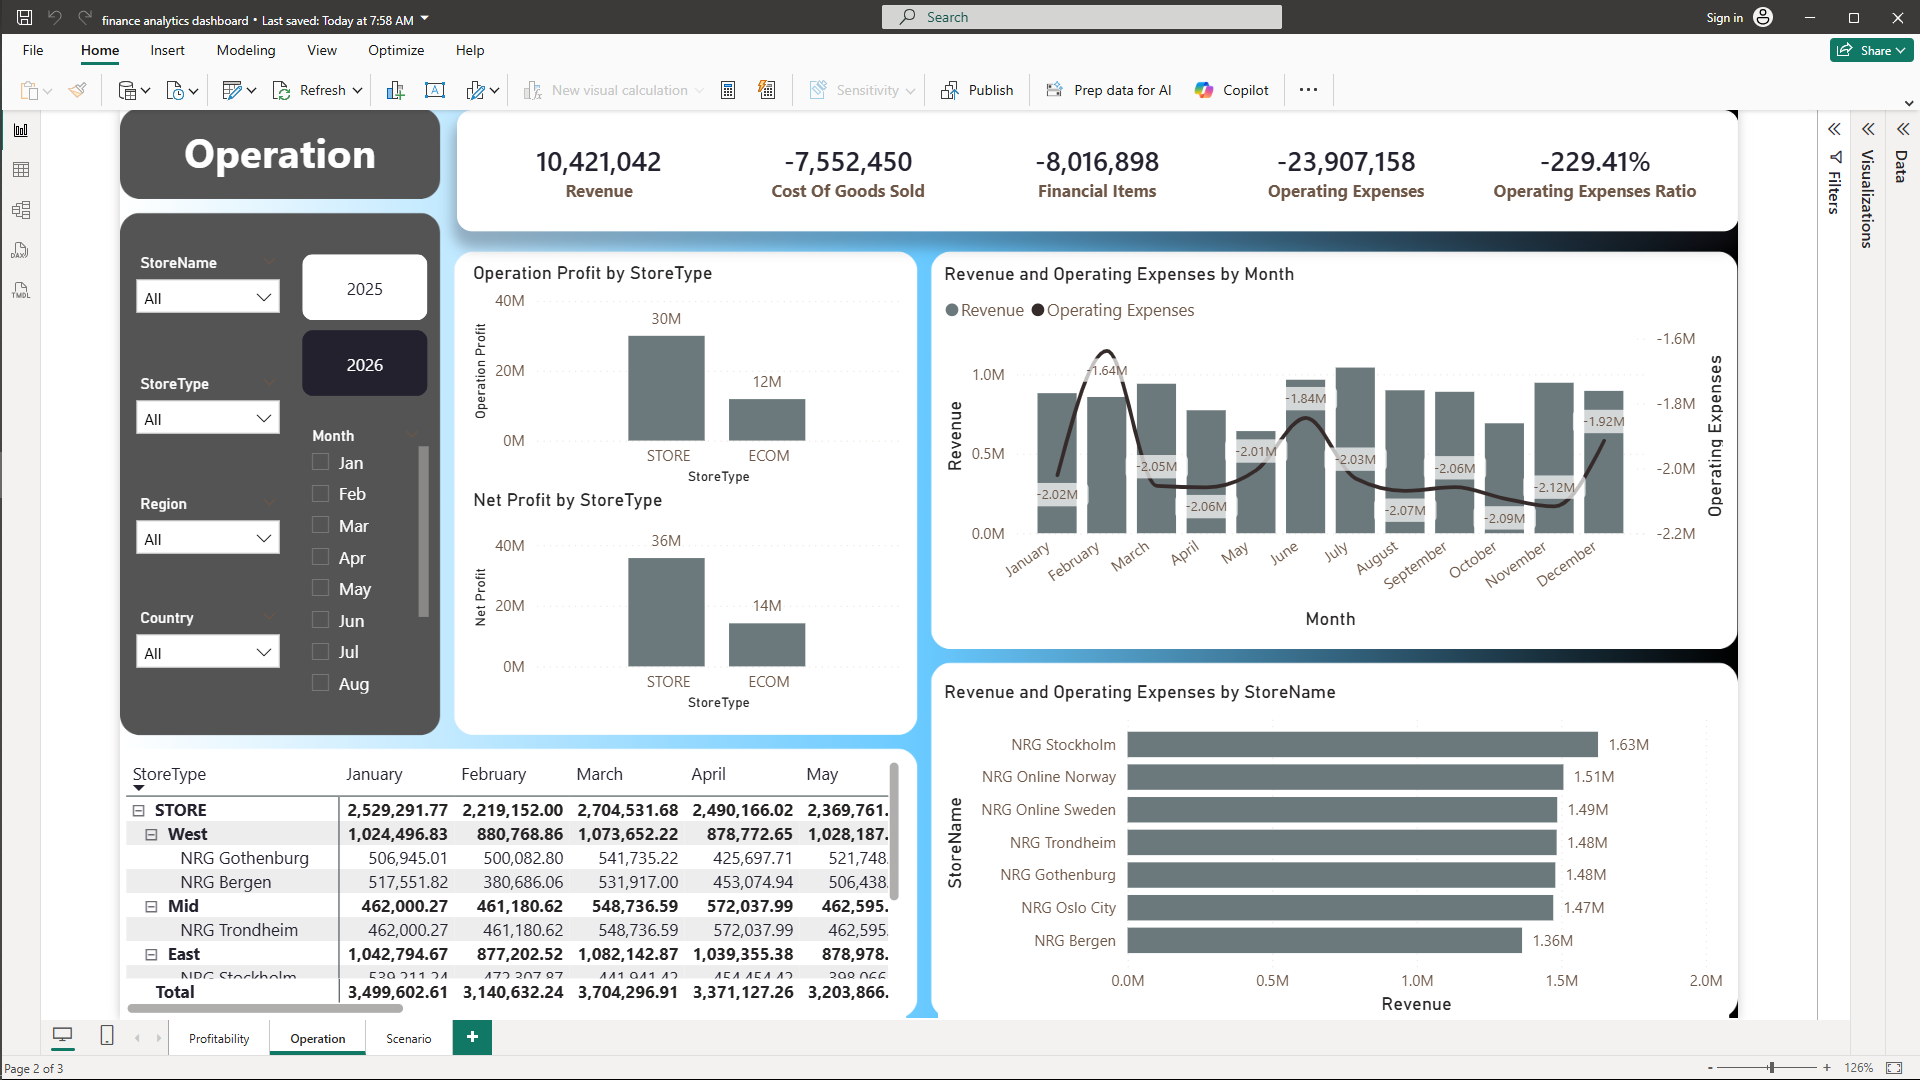

The page's visual inventory and layout, read from the dashboard file:
{"tool":"powerbi","page":{"name":"Operation","canvas":[1280,720],"ordinal":1},"visuals":[{"type":"cardVisual","fields":{"Data":["_Measures.Revenue","_Measures.Cost Of Goods Sold (COGS)","_Measures.Financial Items","_Measures.Operating Expenses","_Measures.Operating Expenses Ration"]},"box":[266.4,0,1013.6,96.3],"z":0},{"type":"lineStackedColumnComboChart","fields":{"Y":["_Measures.Revenue"],"Category":["dim_date.Date.Variation.Date Hierarchy.Year","dim_date.Date.Variation.Date Hierarchy.Quarter","dim_date.Date.Variation.Date Hierarchy.Month","dim_date.Date.Variation.Date Hierarchy.Day"],"Y2":["_Measures.Operating Expenses"]},"box":[647.2,121.5,626.5,294.3],"z":1000},{"type":"barChart","fields":{"Category":["dim_stores.StoreName"],"Y":["_Measures.Revenue"]},"box":[647.2,452.8,626.5,267.3],"z":2000},{"type":"clusteredColumnChart","fields":{"Category":["dim_stores.StoreType"],"Y":["_Measures.Operation Profit"]},"box":[274.4,121.2,347.7,179.5],"z":3000},{"type":"pivotTable","fields":{"Rows":["dim_stores.StoreType","dim_stores.Region","dim_stores.StoreName"],"Values":["_Measures.Operation Profit"],"Columns":["dim_date.Date.Variation.Date Hierarchy.Year","dim_date.Date.Variation.Date Hierarchy.Quarter","dim_date.Date.Variation.Date Hierarchy.Month","dim_date.Date.Variation.Date Hierarchy.Day"]},"box":[0,510.4,622,209.7],"z":4000},{"type":"slicer","fields":{"Values":["dim_stores.Country"]},"box":[3.5,389.9,132.8,82.8],"z":5000},{"type":"slicer","fields":{"Values":["dim_stores.Region"]},"box":[3.5,300.2,132.8,81.1],"z":6000},{"type":"slicer","fields":{"Values":["dim_stores.StoreType"]},"box":[3.5,205.3,132.8,81.1],"z":7000},{"type":"slicer","fields":{"Values":["dim_stores.StoreName"]},"box":[3.5,109.5,132.8,81.1],"z":8000},{"type":"slicer","fields":{"Values":["dim_date.Month (Short)"]},"box":[139,246.1,109.7,226.9],"z":9000},{"type":"advancedSlicerVisual","fields":{"Values":["dim_date.Date.Variation.Date Hierarchy.Year"]},"box":[138.9,109.5,109.5,123.3],"z":10000},{"type":"textbox","box":[14.2,5.9,225.2,58.6],"z":11000},{"type":"clusteredColumnChart","fields":{"Category":["dim_stores.StoreType"],"Y":["_Measures.Net Profit"]},"box":[274.4,300.7,347.7,178.6],"z":12000}]}

Visuals, with their boxes on the page's 1280x720 design canvas (x1, y1, x2, y2). These are canvas units, not pixel positions in the 1920x1080 screenshot, which may show the page scaled, cropped or inside an application window:
cardVisual - _Measures.Revenue x _Measures.Cost Of Goods Sold (COGS): bbox=(266, 0, 1280, 96)
lineStackedColumnComboChart - _Measures.Revenue x dim_date.Date.Variation.Date Hierarchy.Year: bbox=(647, 122, 1274, 416)
barChart - dim_stores.StoreName x _Measures.Revenue: bbox=(647, 453, 1274, 720)
clusteredColumnChart - dim_stores.StoreType x _Measures.Operation Profit: bbox=(274, 121, 622, 301)
pivotTable - dim_stores.StoreType x dim_stores.Region: bbox=(0, 510, 622, 720)
slicer - dim_stores.Country: bbox=(4, 390, 136, 473)
slicer - dim_stores.Region: bbox=(4, 300, 136, 381)
slicer - dim_stores.StoreType: bbox=(4, 205, 136, 286)
slicer - dim_stores.StoreName: bbox=(4, 110, 136, 191)
slicer - dim_date.Month (Short): bbox=(139, 246, 249, 473)
advancedSlicerVisual - dim_date.Date.Variation.Date Hierarchy.Year: bbox=(139, 110, 248, 233)
textbox: bbox=(14, 6, 239, 64)
clusteredColumnChart - dim_stores.StoreType x _Measures.Net Profit: bbox=(274, 301, 622, 479)
